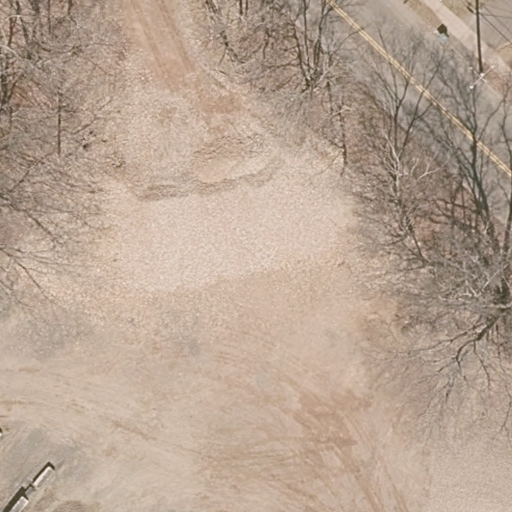DT: (468, 60, 494, 91)
